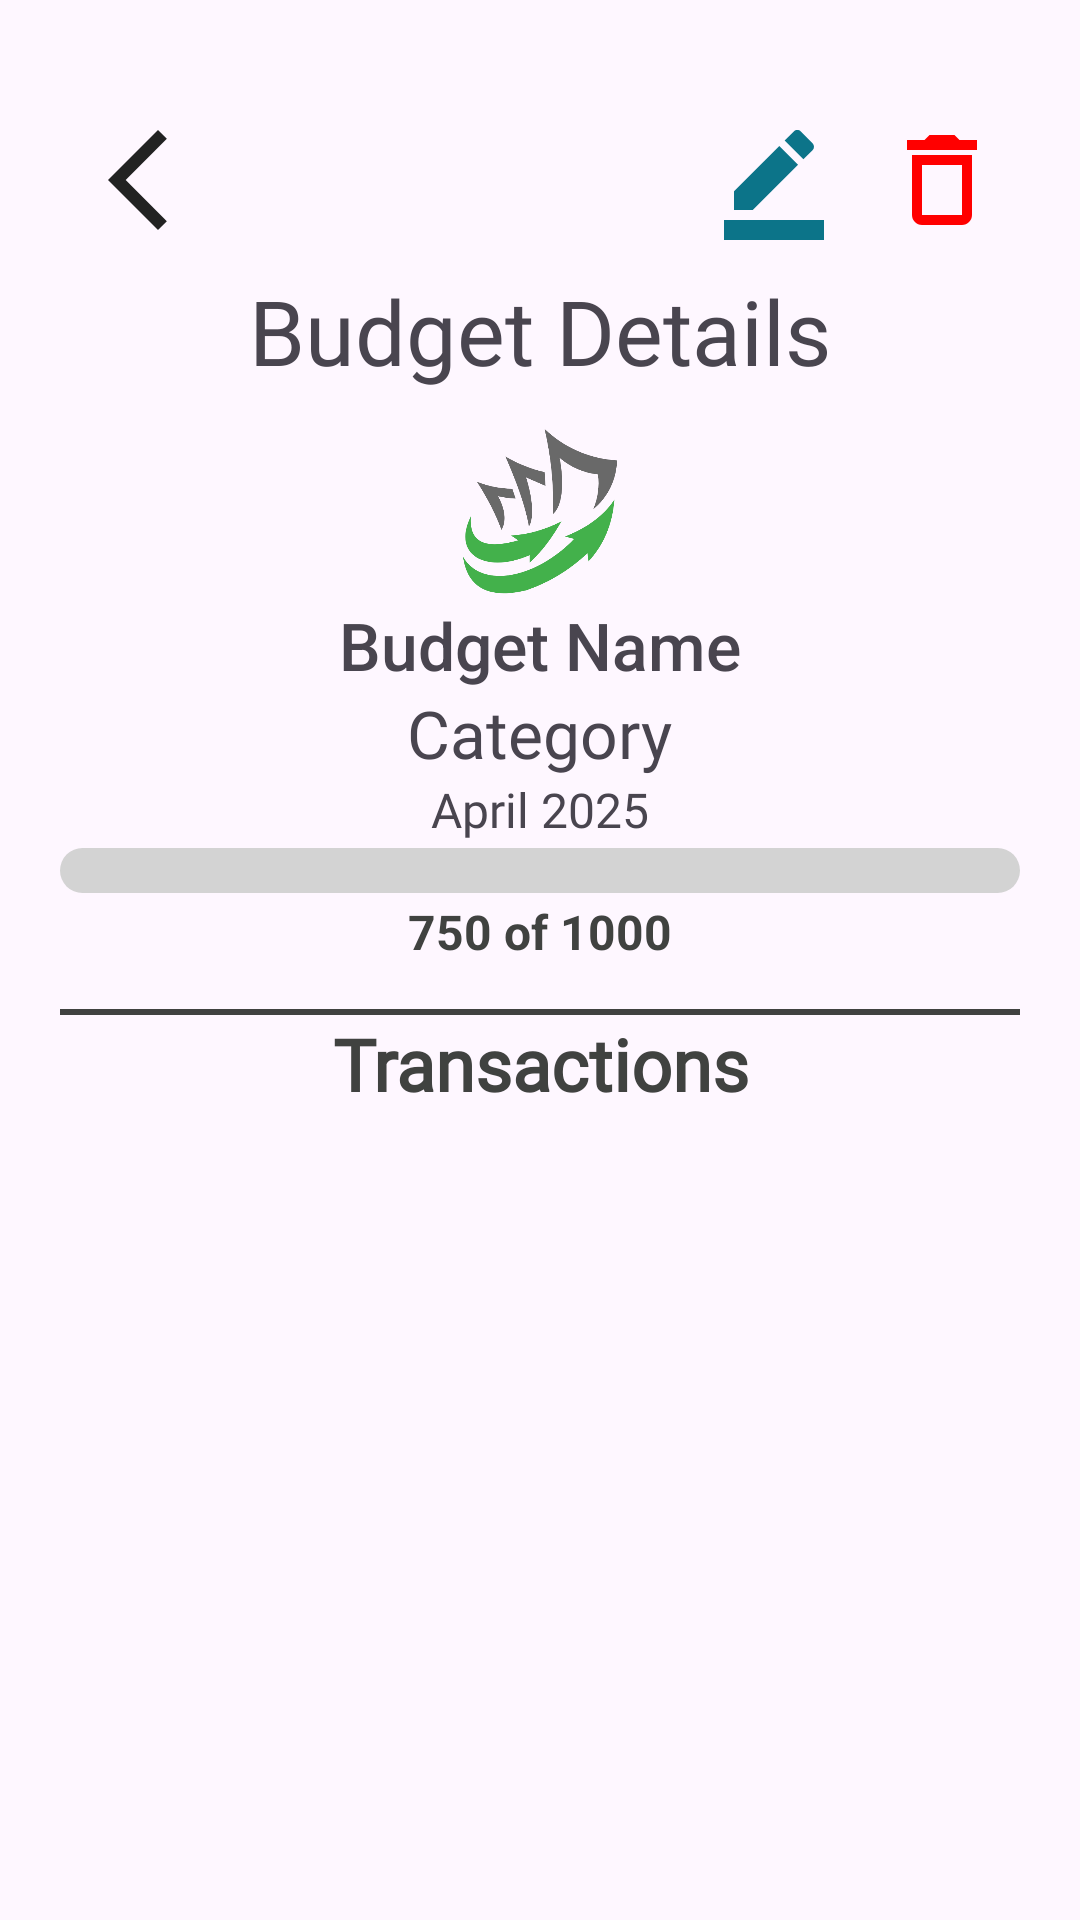

Locate icon controls on the screen. Image size 1080 x 1920, boxes as bbox(x1, y1, x2, y2).
Back Button: bbox(108, 130, 167, 230)
Delete Button: bbox(907, 135, 977, 225)
Edit Button: bbox(724, 130, 824, 240)
